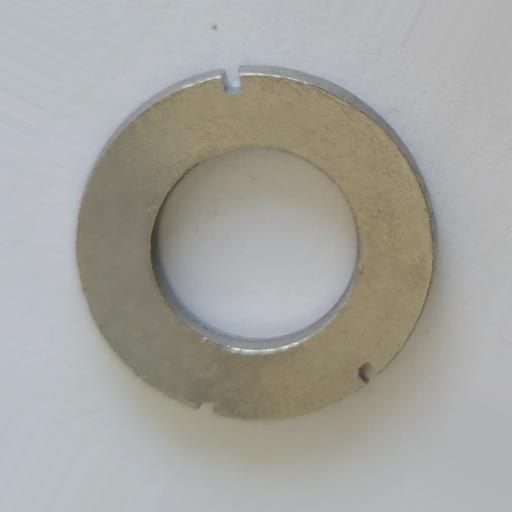burr: (219, 69, 246, 96), (356, 361, 379, 384), (198, 400, 218, 415)
